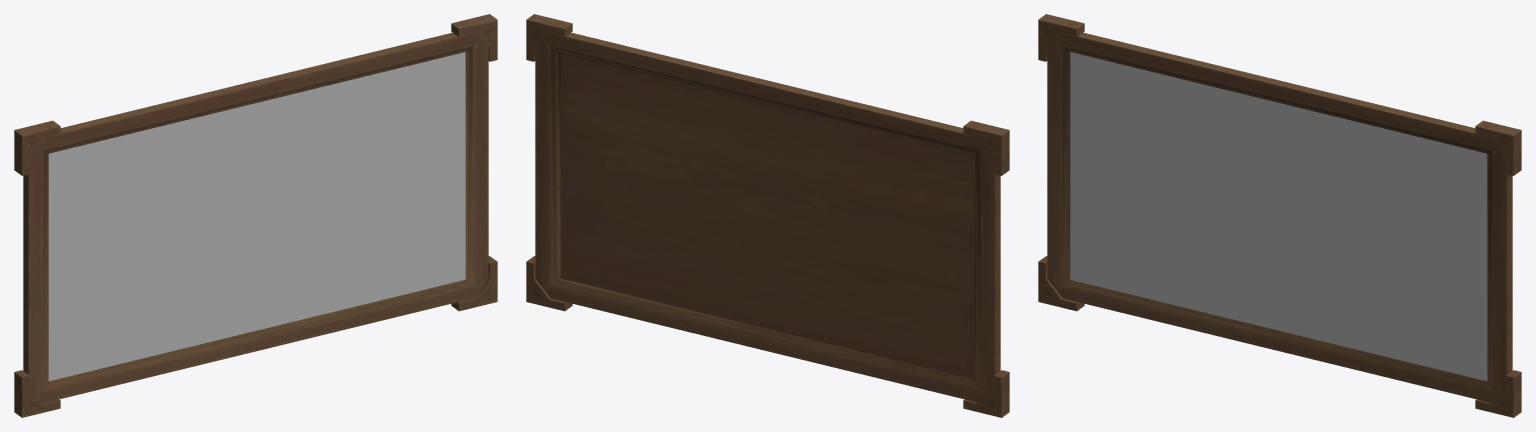
File: Homeworld_Interior_Ly_Prop_Walldecoration_Frame_01_Vo.fbx
The picture shows the model from 3 angles, left to right: view 1: azimuth 30°, elevation 25°; view 2: azimuth 150°, elevation 25°; view 3: azimuth 330°, elevation 25°; orthographic projection.
Parts seen in each view (by area): view 1: Homeworld_Interior_Ly_Prop_Walldecoration_Frame_01_B_Vo, Homeworld_Interior_Ly_Prop_Walldecoration_Frame_01_A_Vo; view 2: Homeworld_Interior_Ly_Prop_Walldecoration_Frame_01_A_Vo; view 3: Homeworld_Interior_Ly_Prop_Walldecoration_Frame_01_B_Vo, Homeworld_Interior_Ly_Prop_Walldecoration_Frame_01_A_Vo.
Part boxes in pixels (box(x1,y1,x2,y2)): Homeworld_Interior_Ly_Prop_Walldecoration_Frame_01_B_Vo: box(48, 52, 465, 381); Homeworld_Interior_Ly_Prop_Walldecoration_Frame_01_A_Vo: box(14, 14, 497, 417); Homeworld_Interior_Ly_Prop_Walldecoration_Frame_01_A_Vo: box(526, 14, 1009, 417); Homeworld_Interior_Ly_Prop_Walldecoration_Frame_01_B_Vo: box(1070, 52, 1487, 381); Homeworld_Interior_Ly_Prop_Walldecoration_Frame_01_A_Vo: box(1038, 14, 1521, 417).
Size of the model in its own units: 1.25 by 0.7089 by 0.0354.
